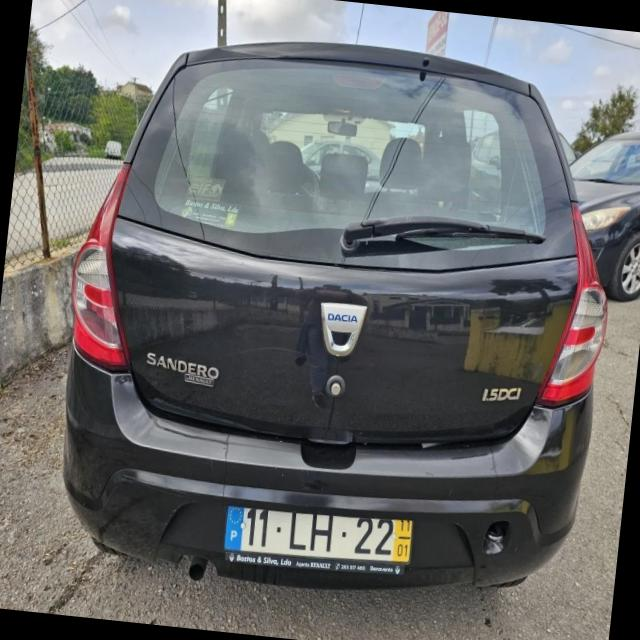portuguese-license-plates: (221, 501, 418, 565)
